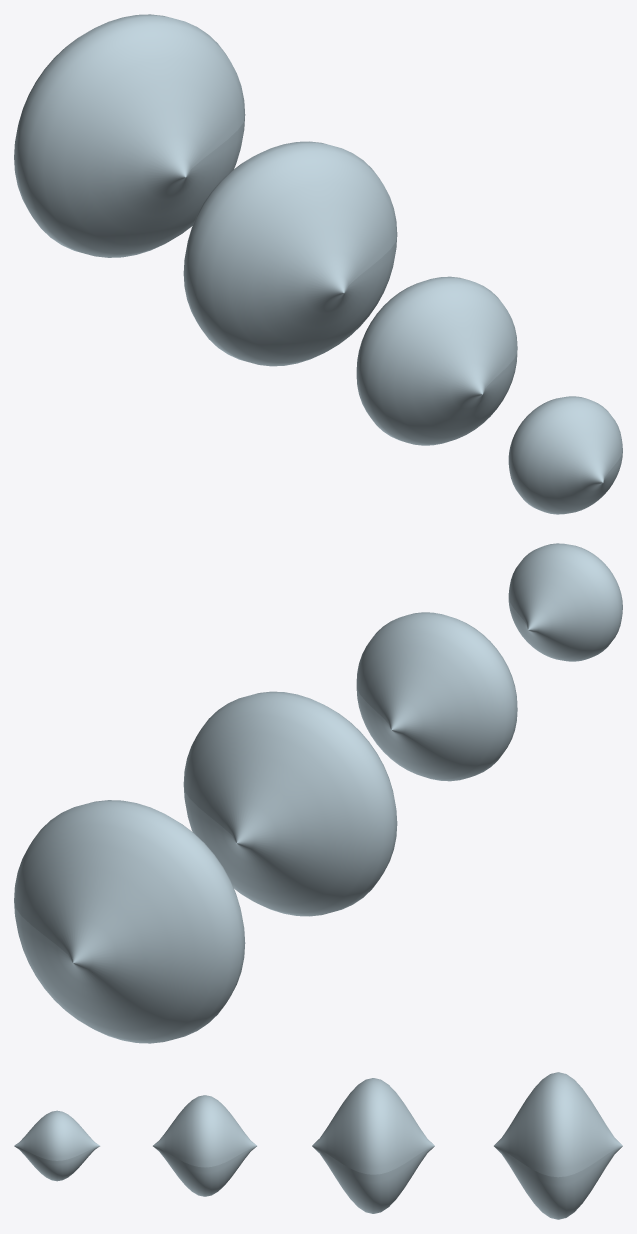
Rendered from JetShockCells.fbx.
The picture shows the model from 3 angles, top to bottom: view 1: azimuth 30°, elevation 25°; view 2: azimuth 150°, elevation 25°; view 3: azimuth 270°, elevation 25°; orthographic projection. The views are drawn at different scales.
Visible parts, largest first — view 1: JetShockCells; view 2: JetShockCells; view 3: JetShockCells.
Boxes of the visible parts, x1,y1,x2,y2 form: JetShockCells: (14, 14, 622, 514); JetShockCells: (14, 543, 622, 1043); JetShockCells: (14, 1072, 622, 1219).
Bounding box in the file's own units: 0.18 × 0.18 × 0.7412.
